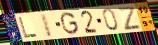0: (102, 8, 120, 32)
2: (80, 9, 99, 34)
G: (60, 11, 81, 36)
I: (39, 12, 54, 38)
L: (17, 16, 39, 39)
Z: (116, 6, 143, 31)
